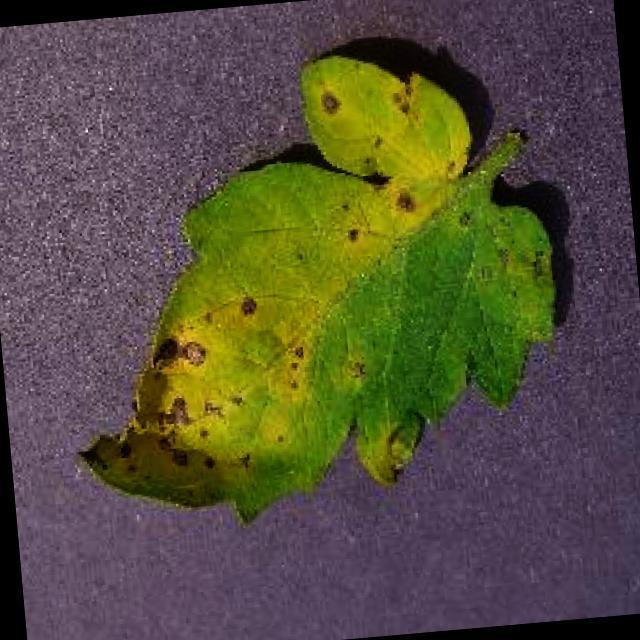Tomato Septoria spot leaf: (51, 27, 573, 534)
